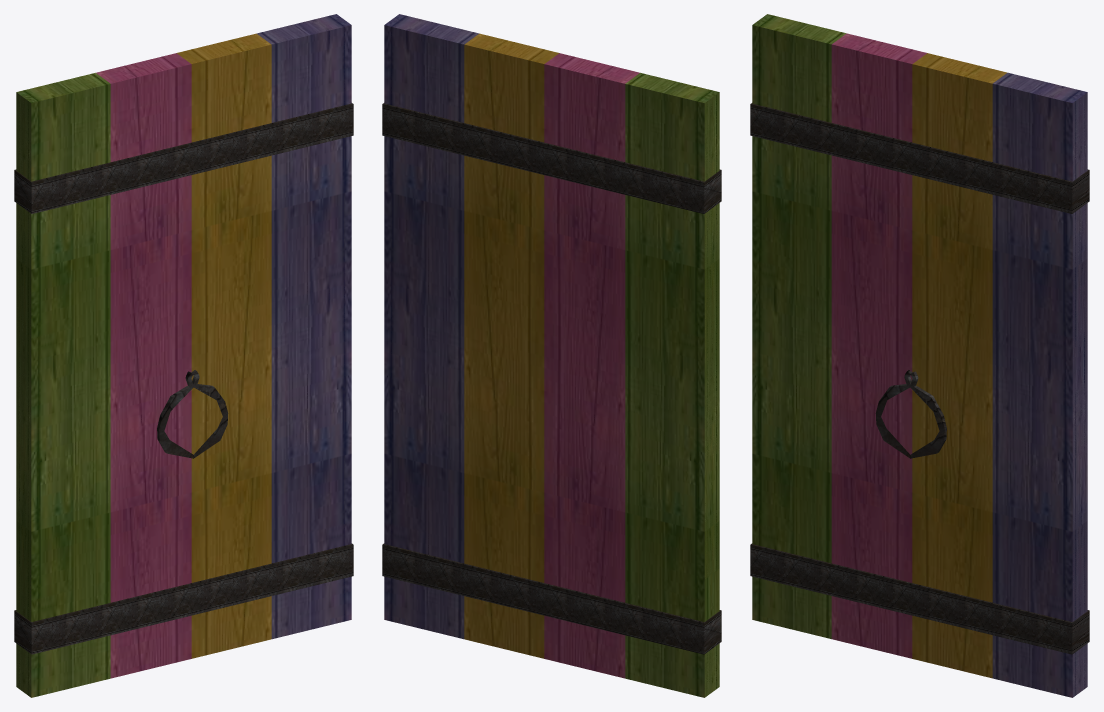
File: RainbowDoor.fbx
3 renders of one model, left to right at view 1: azimuth 30°, elevation 25°; view 2: azimuth 150°, elevation 25°; view 3: azimuth 330°, elevation 25°, orthographic.
Visible parts, largest first — view 1: Door; view 2: Door; view 3: Door.
Boxes of the visible parts, bbox=[...] form: Door: bbox=[14, 14, 353, 697]; Door: bbox=[382, 14, 721, 697]; Door: bbox=[750, 14, 1089, 697].
Bounding box in the file's own units: 1032 × 1821 × 102.
